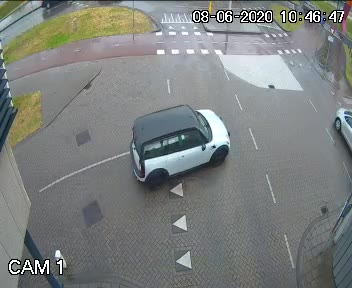car: (123, 105, 233, 180), (330, 103, 350, 163)
